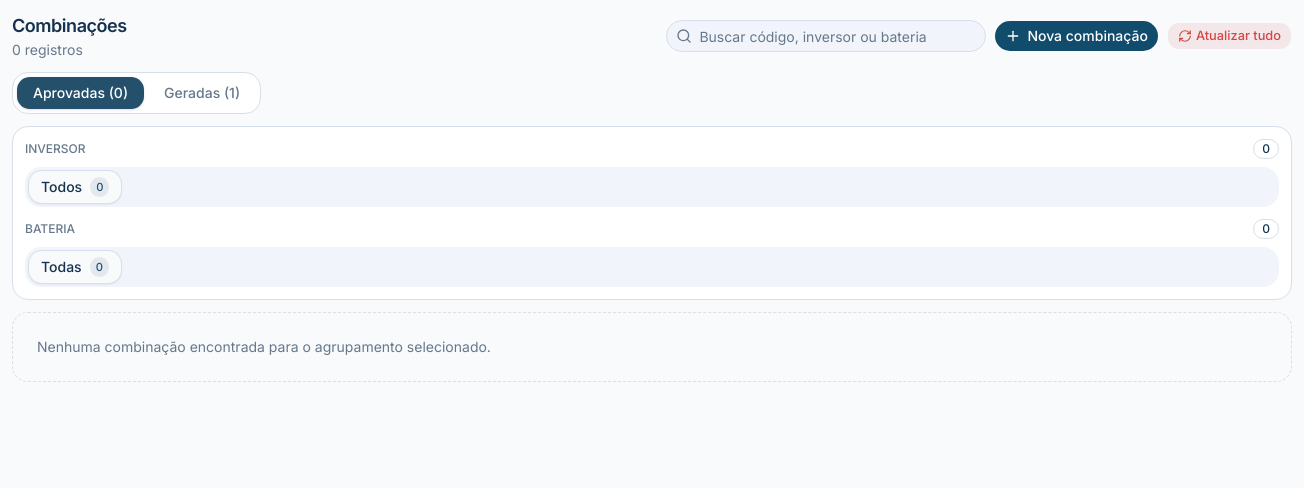
SolutionsEditor: pending-generated localStorage bootstrap › restores a previously-stored pending list on mount
The image size is (1304, 488).
Click the button "Geradas (1)" at (202, 93), box [148,77,256,109]
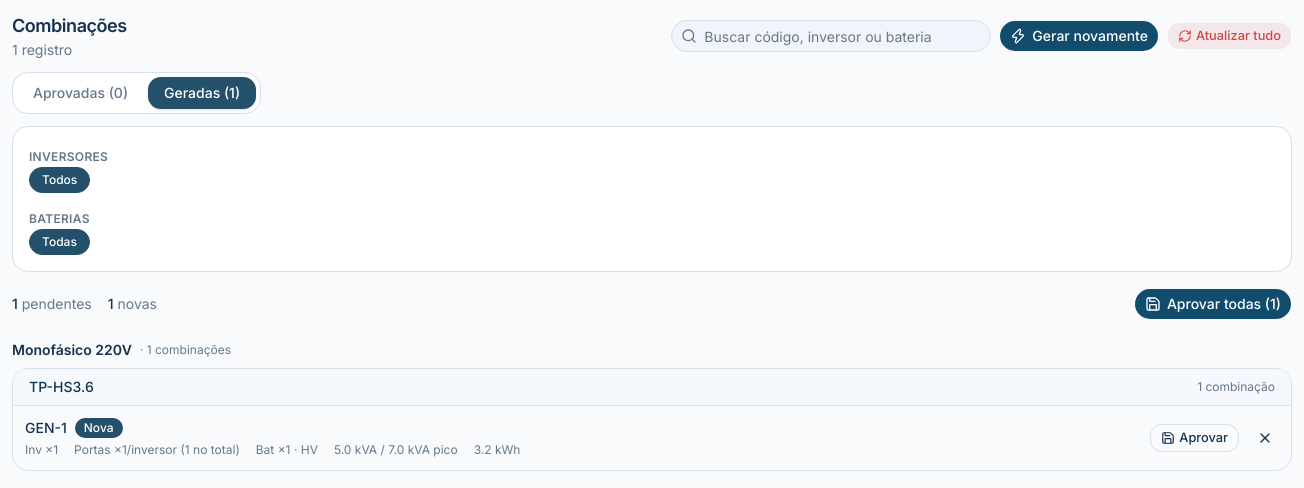
Result: the text "GEN-1" is shown at [25,418,67,438]
